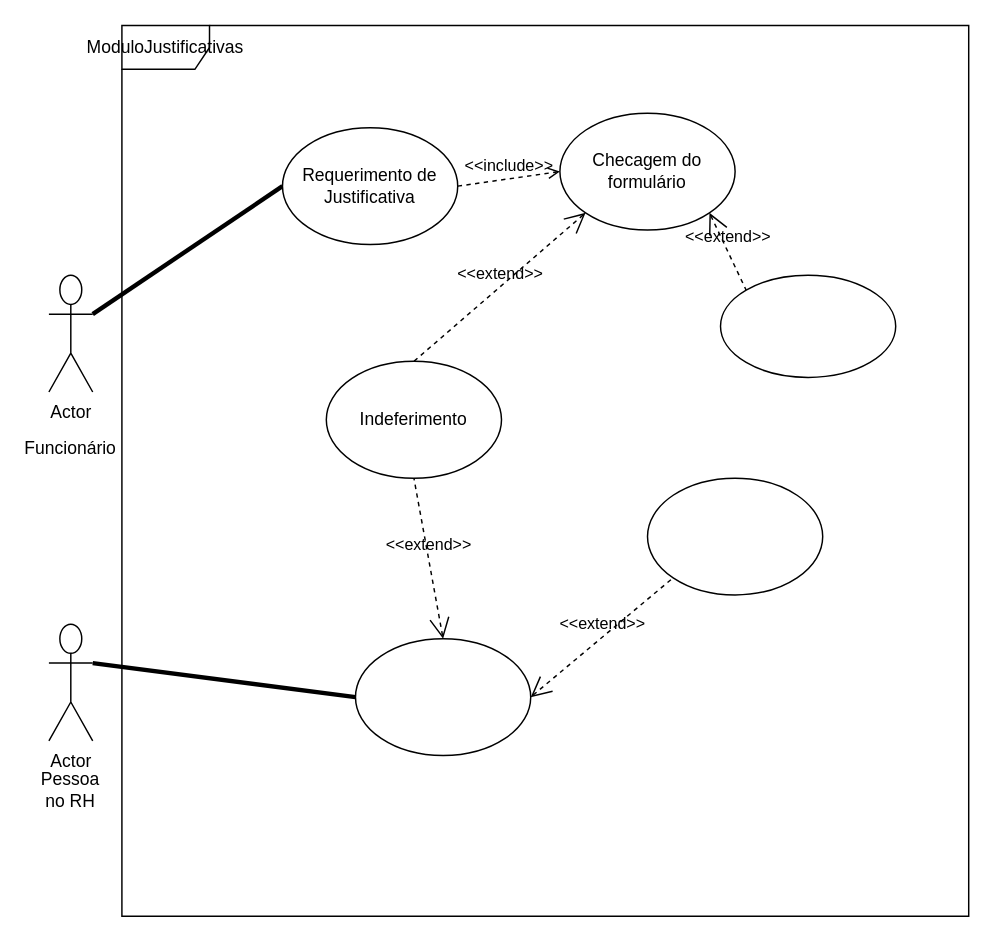
Image size: 994x942. Some labels were removed from this diagram. Here are the shapes that lost their labels. From the top down, the centre of each, then its label:
[807,325]: Pedido enviado para análise
[734,536]: Pedido deferido
[442,696]: Análise de Justificativas
